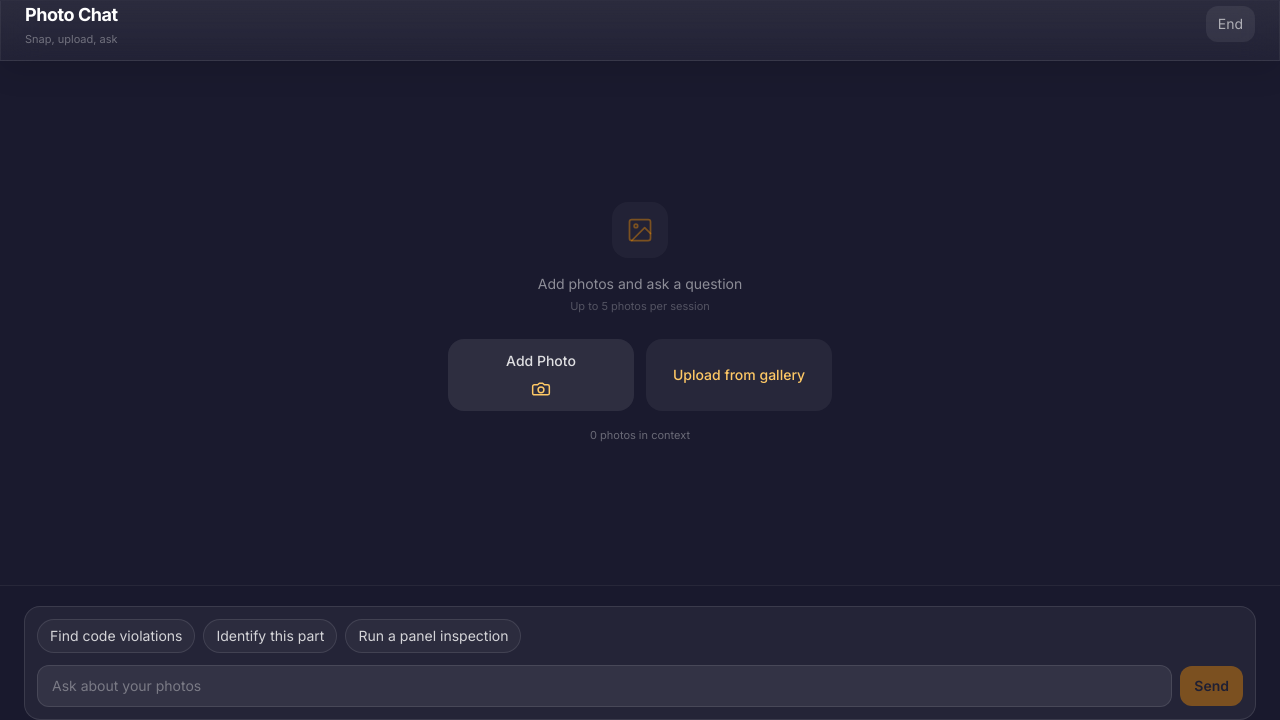
Test: PhotoChatView › keeps the composer cleared after a failed send and shows retry UI
The image size is (1280, 720).
Type "Need help" into the field with placeholder "Ask about your photos" at (605, 686), box top-left (37, 665), bottom-right (1172, 707)
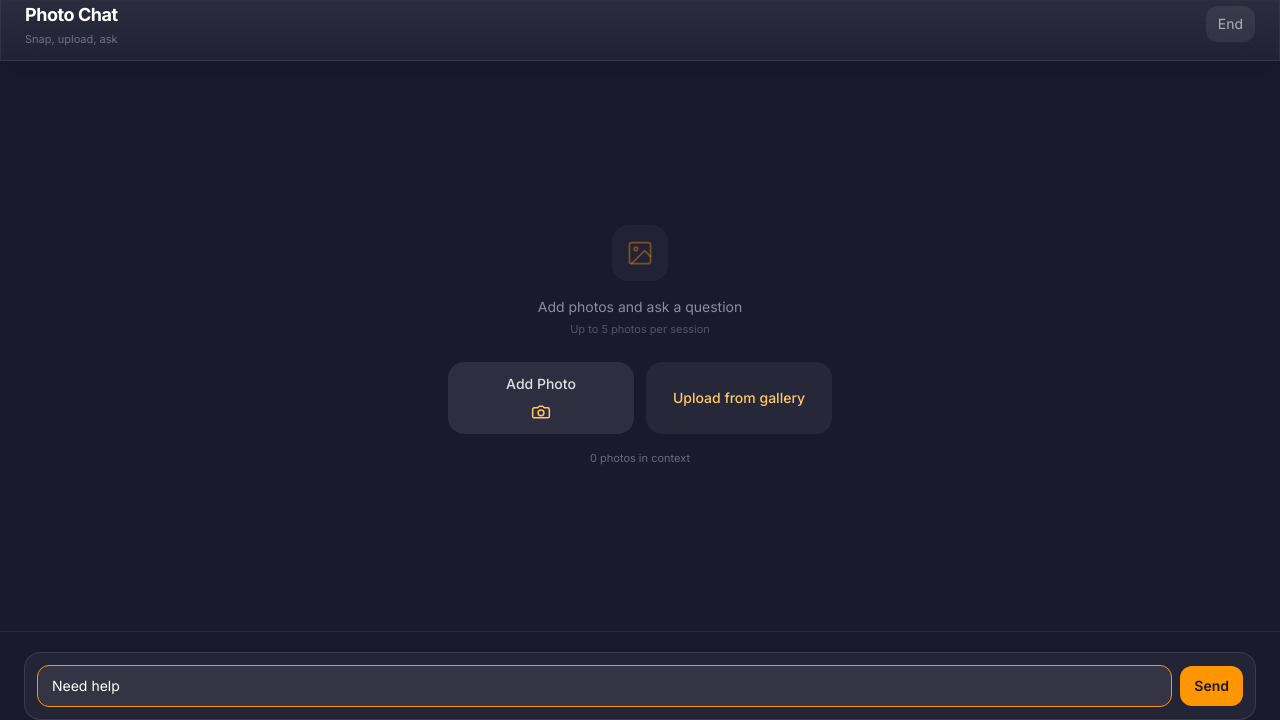
Click the button "Send" at (1212, 686), box top-left (1180, 666), bottom-right (1243, 706)
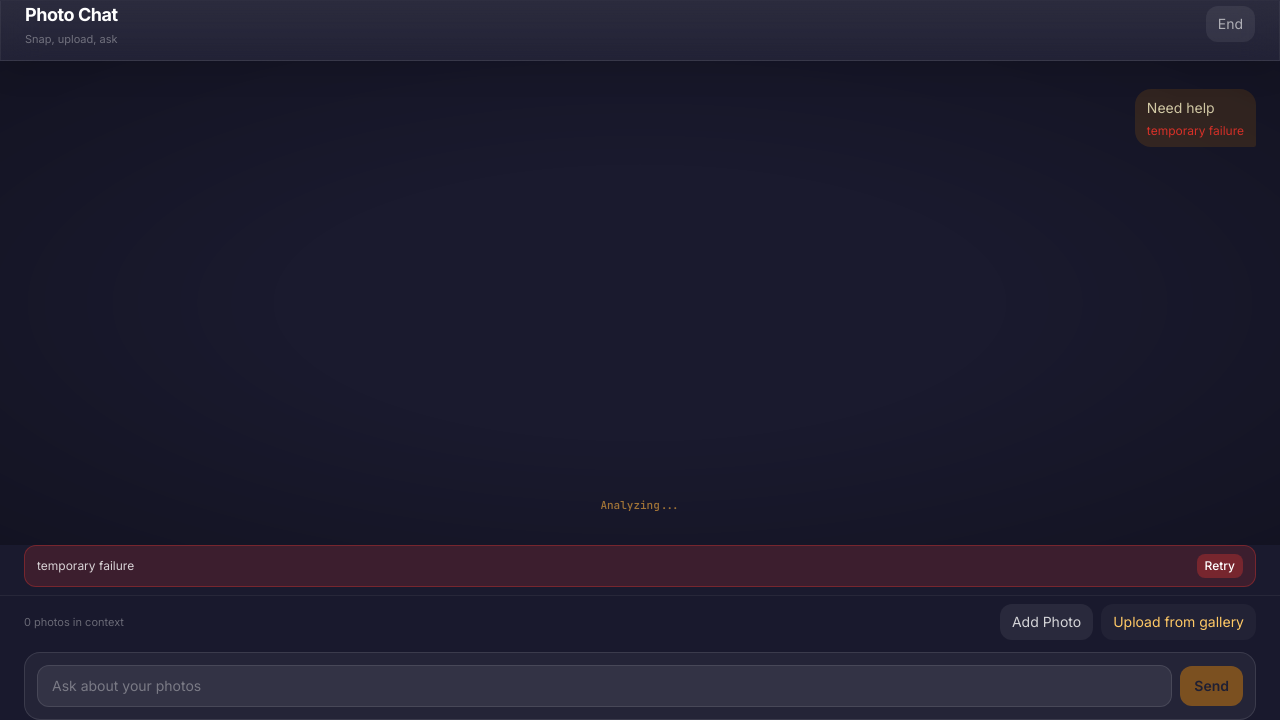
Check: the button "Retry" is shown, box top-left (1196, 554), bottom-right (1243, 578)
Check: the field with placeholder "Ask about your photos" is empty, box top-left (37, 665), bottom-right (1172, 707)
Check: the text "Need help" is shown, box top-left (1147, 98), bottom-right (1215, 116)
